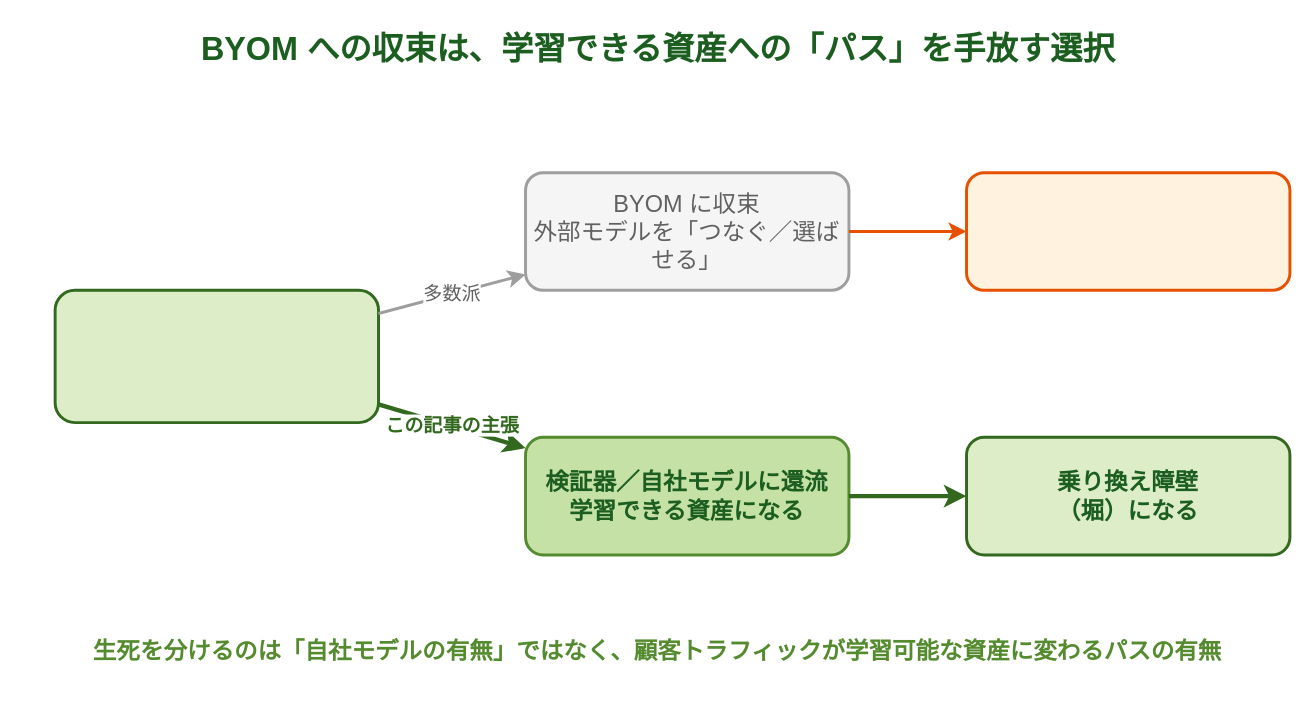
Some shapes in this 1316 by 711 pixel diagram are drawn without their labels. The shapes that lost their labels are listed below. From the top down, each one's box as (x1, y1, x2, y2) in pixels, then its label:
(964, 171, 1291, 291): 修正はプロンプト調整で消える どの重みも賢くならない
(53, 288, 379, 423): 顧客の人手修正 （最も価値の高いデータ）
